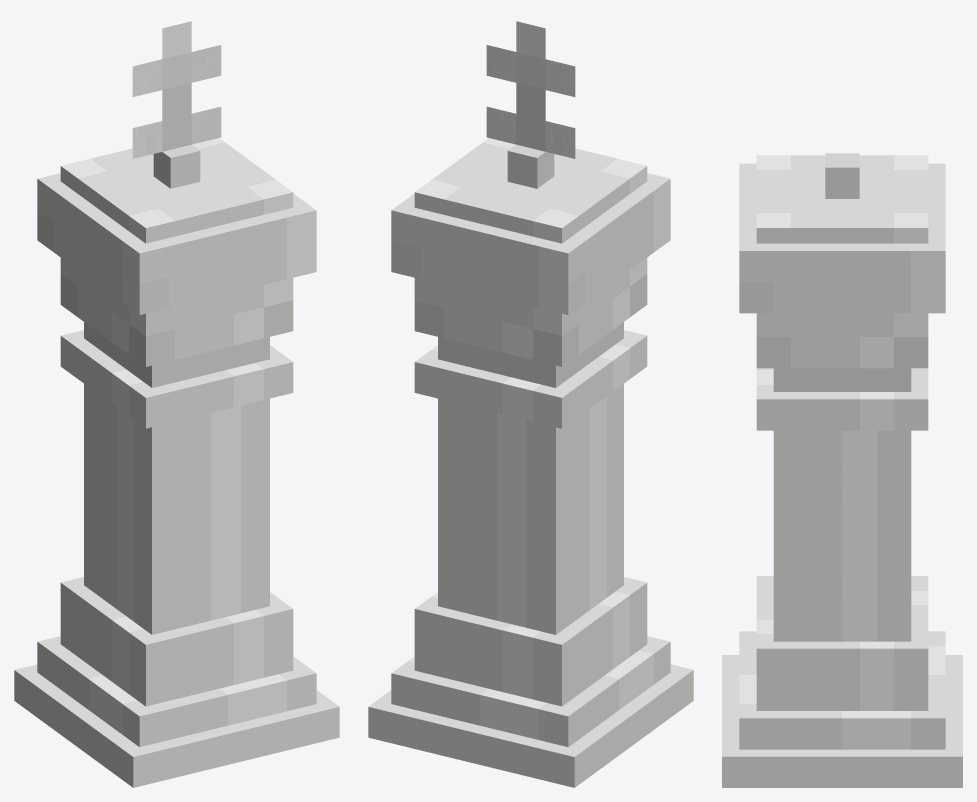
The model's file is king.obj.
3 views of the same model, side by side, from view 1: azimuth 30°, elevation 25°; view 2: azimuth 150°, elevation 25°; view 3: azimuth 270°, elevation 25° (orthographic).
Parts seen in each view (by area): view 1: cube; view 2: cube; view 3: cube.
Boxes of the visible parts, <box> form: cube: <box>14,21,339,787</box>; cube: <box>368,21,693,787</box>; cube: <box>722,153,962,787</box>.
Bounding box in the file's own units: 0.4375 × 1.41 × 0.4375.
